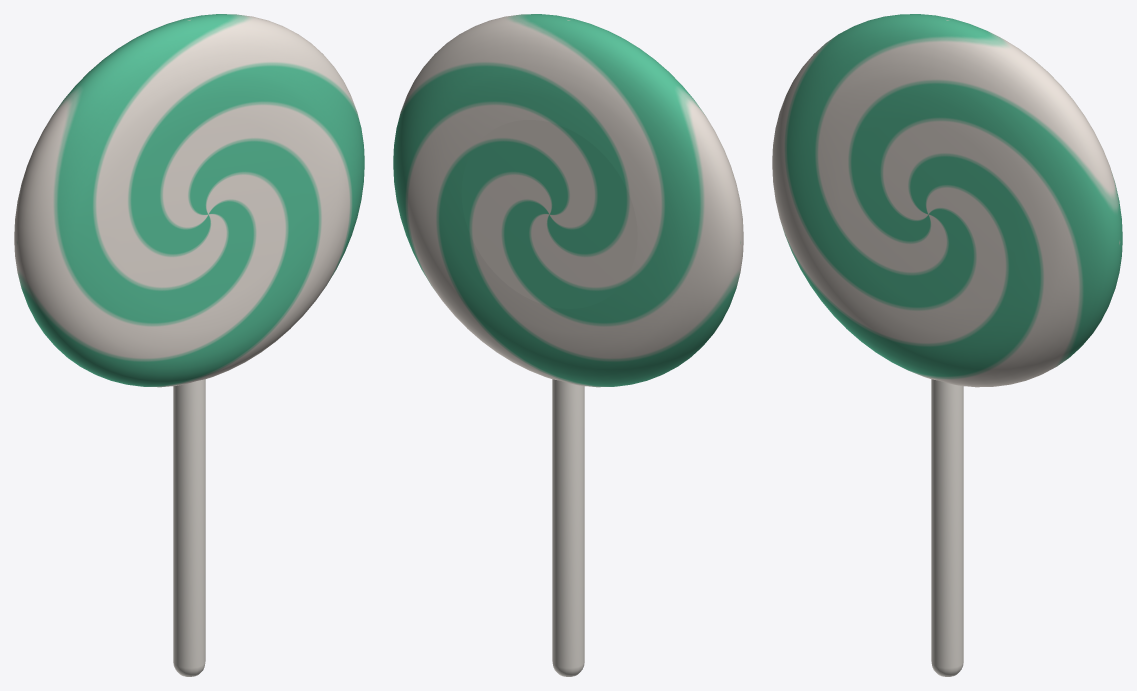
The model's file is lollipop_tree_mint.glb.
3 renders of one model, left to right at view 1: azimuth 30°, elevation 25°; view 2: azimuth 150°, elevation 25°; view 3: azimuth 330°, elevation 25°, orthographic.
Parts seen in each view (by area): view 1: lollipop_tree_mint; view 2: lollipop_tree_mint; view 3: lollipop_tree_mint.
Boxes of the visible parts, x1,y1,x2,y2 form: lollipop_tree_mint: [14, 14, 364, 676]; lollipop_tree_mint: [393, 14, 743, 676]; lollipop_tree_mint: [772, 14, 1122, 676].
Size of the model in its own units: 2.2 by 4 by 0.42.
Materials: 2 (1 with a texture image).
